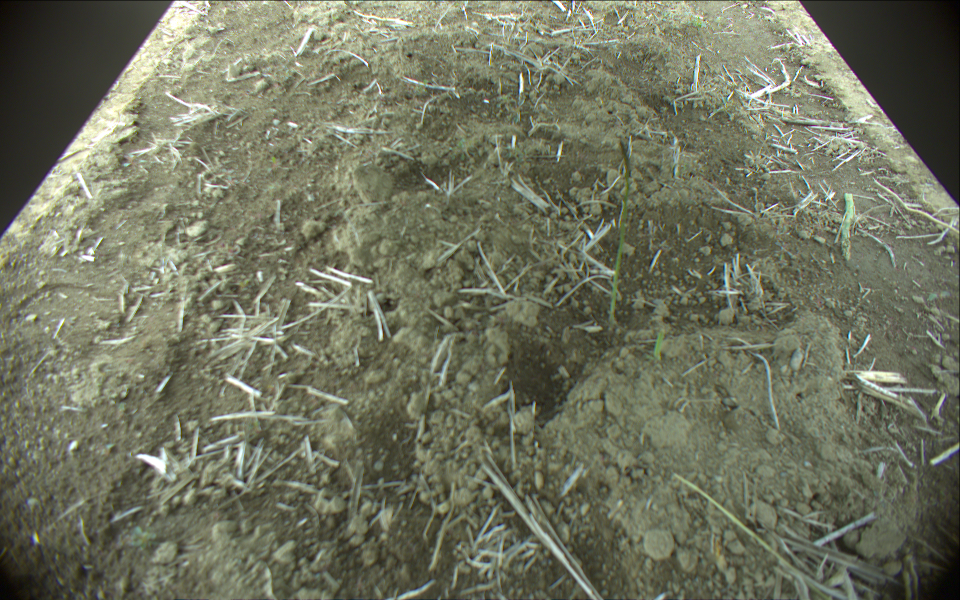aspa: (605, 137, 635, 335), (652, 330, 668, 365)
